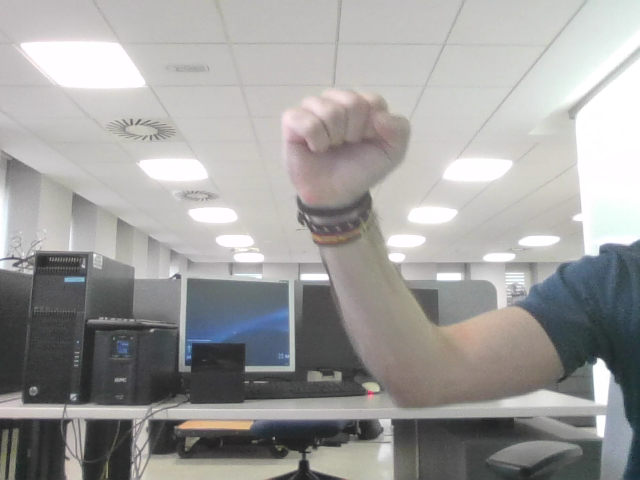Puño: (296, 100, 395, 179)
